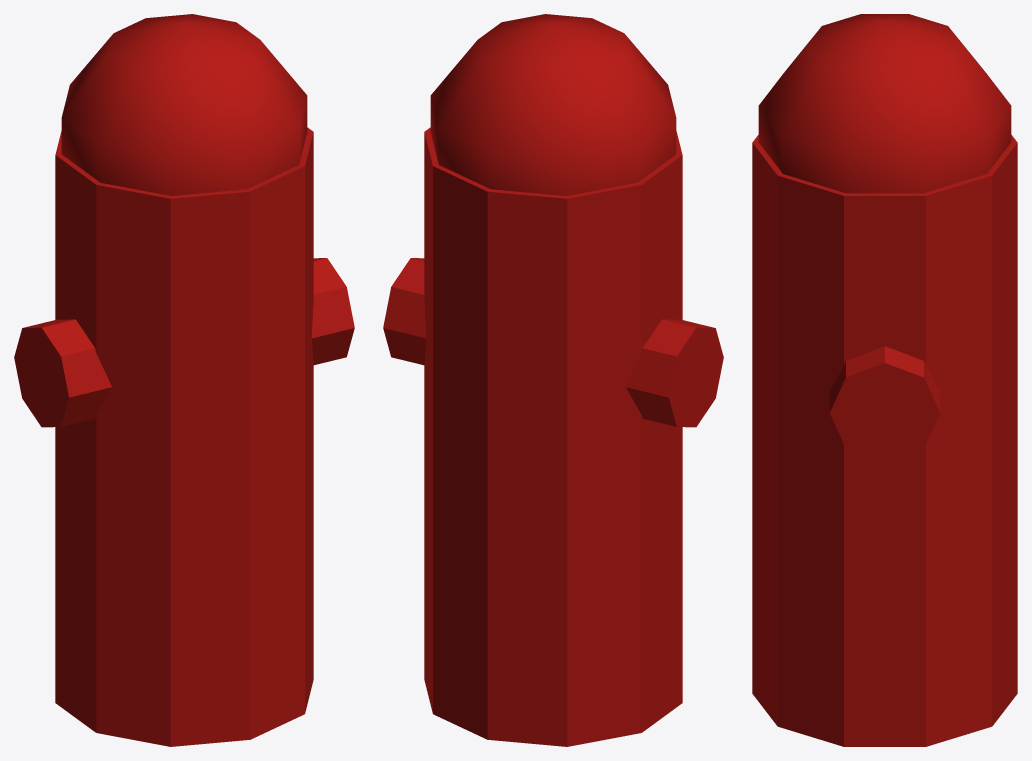
File: PROP_REAL_FireHydrant.glb
3 views of the same model, side by side, from view 1: azimuth 30°, elevation 25°; view 2: azimuth 150°, elevation 25°; view 3: azimuth 270°, elevation 25° (orthographic).
Visible parts, largest first — view 1: PROP_REAL_FireHydrant; view 2: PROP_REAL_FireHydrant; view 3: PROP_REAL_FireHydrant.
Boxes of the visible parts, x1,y1,x2,y2 form: PROP_REAL_FireHydrant: (14,14,354,746); PROP_REAL_FireHydrant: (383,14,723,746); PROP_REAL_FireHydrant: (752,14,1017,746).
Size of the model in its own units: 0.3 by 0.67 by 0.24.
